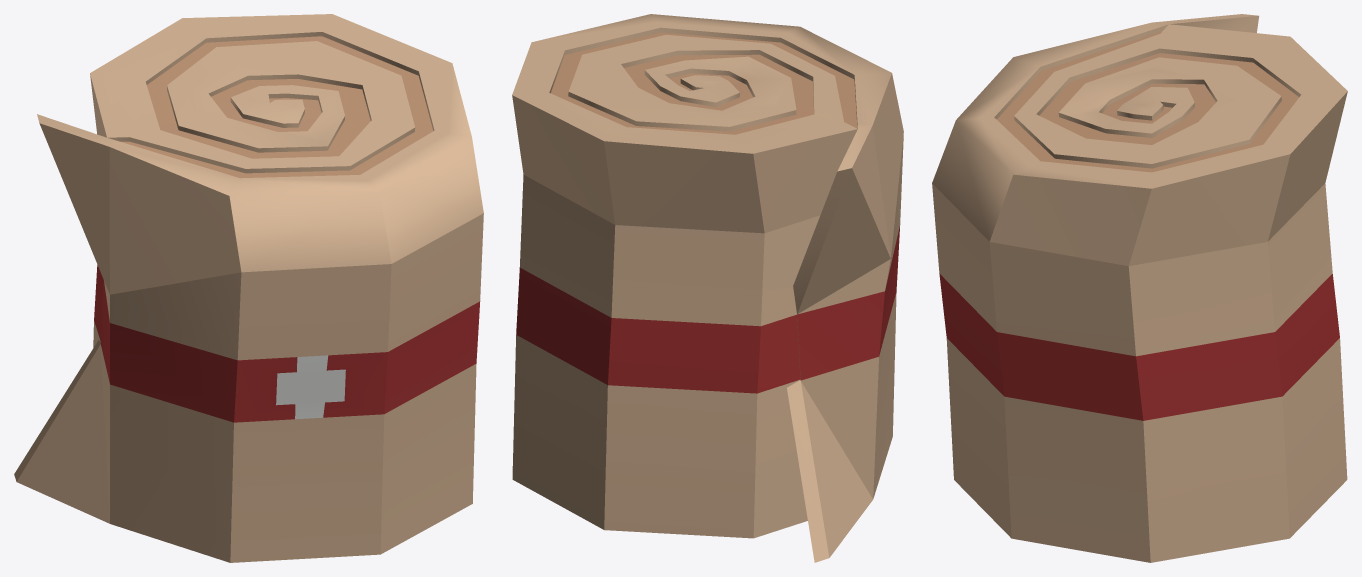
Rendered from Bandage.fbx.
The picture shows the model from 3 angles, left to right: view 1: azimuth 30°, elevation 25°; view 2: azimuth 150°, elevation 25°; view 3: azimuth 270°, elevation 25°; orthographic projection.
Parts seen in each view (by area): view 1: Bandage; view 2: Bandage; view 3: Bandage.
Boxes of the visible parts, box(x1,y1,x2,y2) form: Bandage: box(14, 14, 483, 562); Bandage: box(512, 14, 903, 562); Bandage: box(932, 14, 1347, 562).
Bounding box in the file's own units: 9.91 × 10.14 × 9.77.
